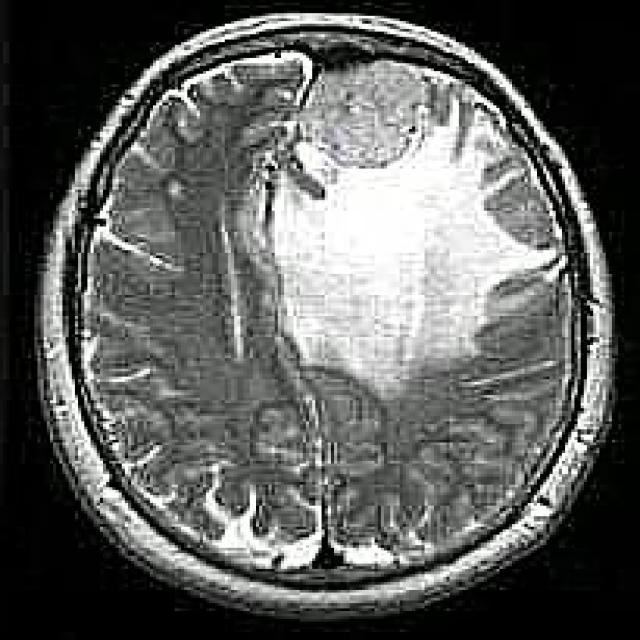Tumor-Cell: (255, 98, 532, 385)
